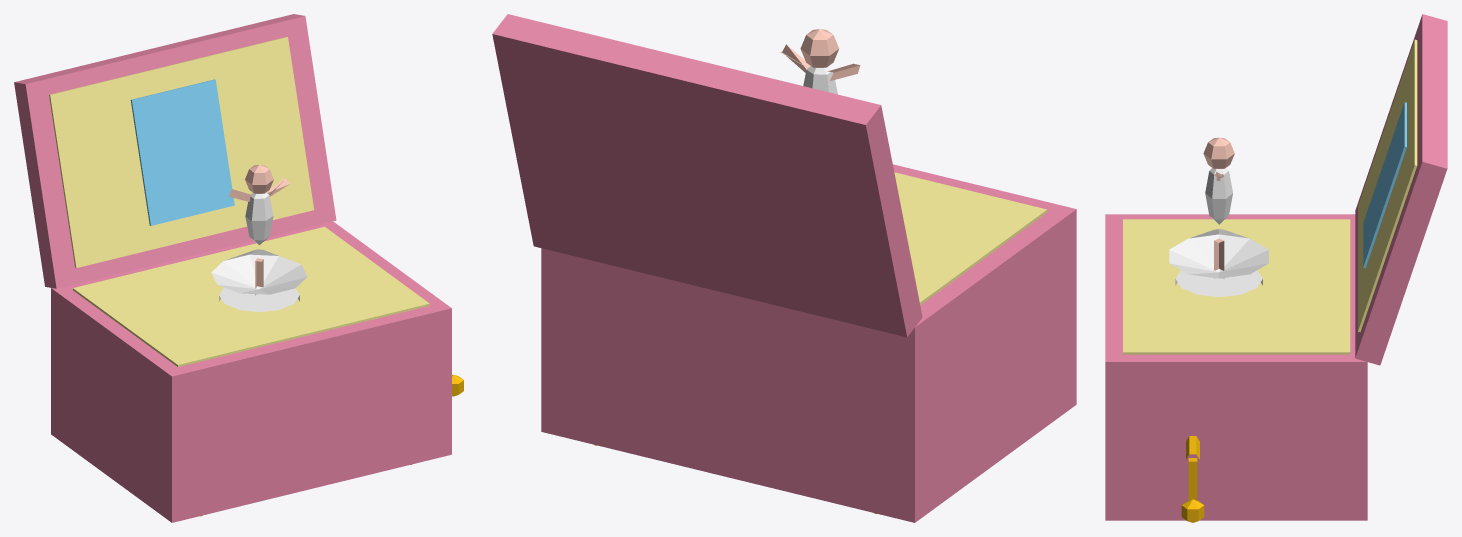
Rendered from speldosa.glb.
The picture shows the model from 3 angles, left to right: view 1: azimuth 30°, elevation 25°; view 2: azimuth 150°, elevation 25°; view 3: azimuth 270°, elevation 25°; orthographic projection. The views are drawn at different scales.
Parts seen in each view (by area): view 1: speldosa; view 2: speldosa; view 3: speldosa.
Boxes of the visible parts, box(x1,y1,x2,y2) form: speldosa: box(14, 14, 463, 522); speldosa: box(492, 14, 1076, 522); speldosa: box(1105, 14, 1447, 522).
Bounding box in the file's own units: 0.4713 × 0.4678 × 0.3912.
